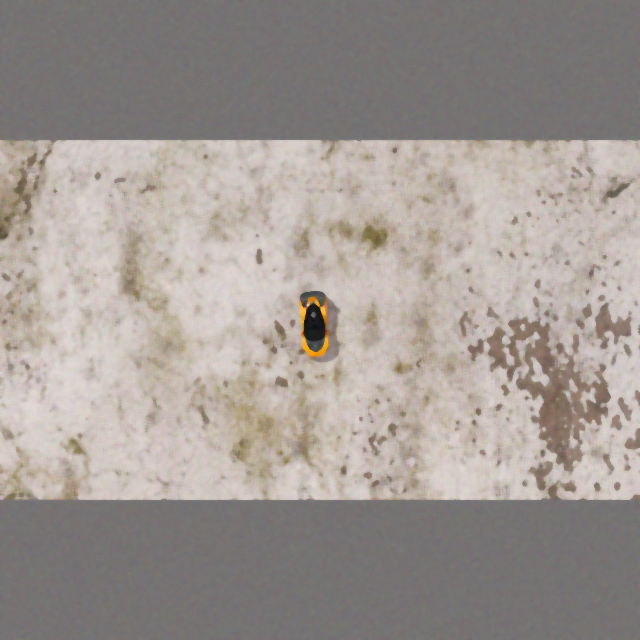car: (297, 289, 332, 358)
